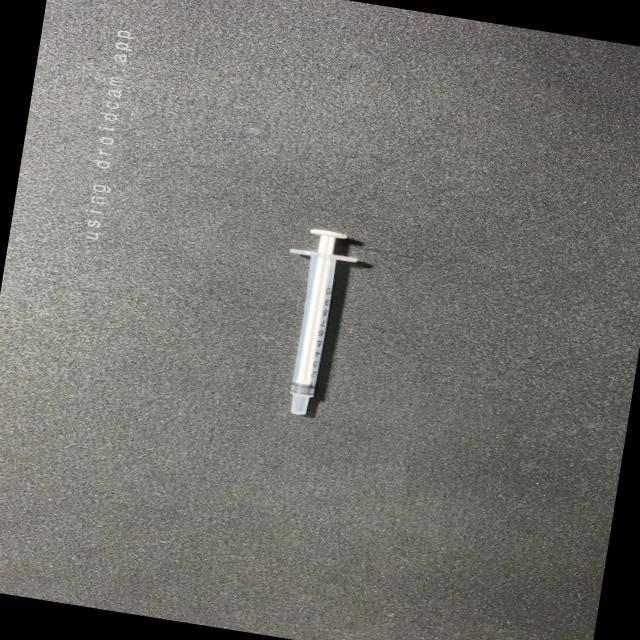syringe: (230, 206, 389, 433)
